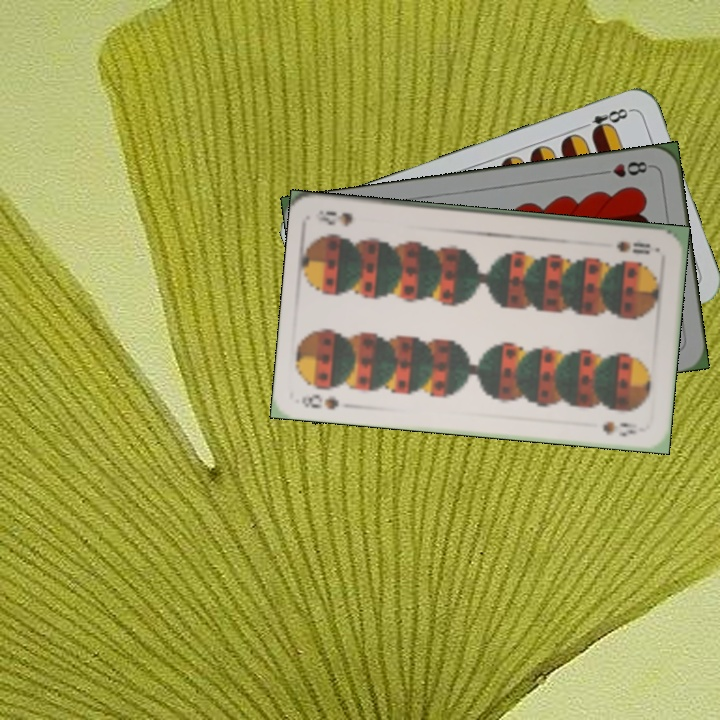E8: (576, 104, 634, 137)
H8: (595, 157, 654, 180)
S8: (297, 390, 342, 413), (612, 237, 653, 257)
